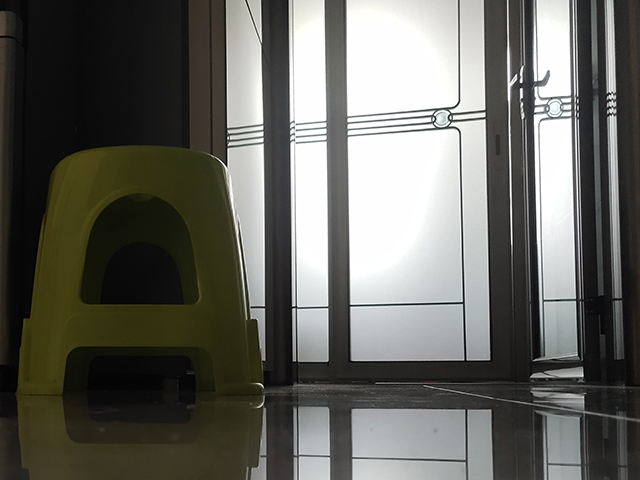stool: (15, 142, 267, 398)
